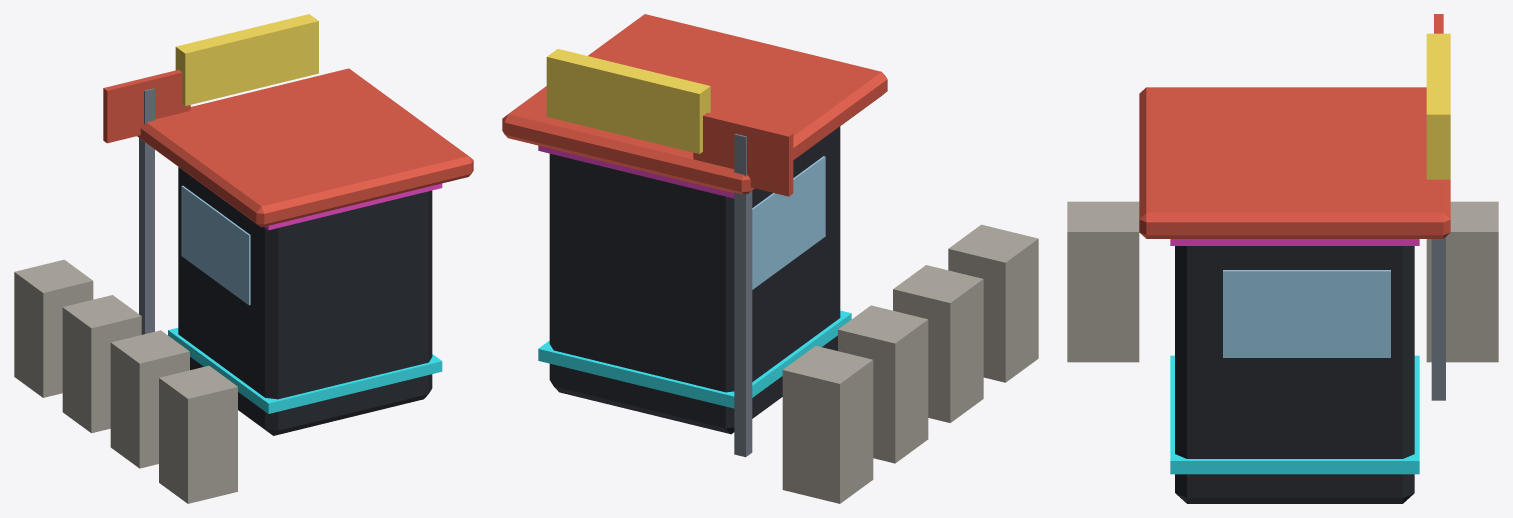
Rendered from checkpoint_neon.glb.
3 renders of one model, left to right at view 1: azimuth 30°, elevation 25°; view 2: azimuth 150°, elevation 25°; view 3: azimuth 270°, elevation 25°, orthographic. The views are drawn at different scales.
Parts seen in each view (by area): view 1: checkpoint_neon; view 2: checkpoint_neon; view 3: checkpoint_neon.
Boxes of the visible parts, <box> form: checkpoint_neon: <box>14,14,473,503</box>; checkpoint_neon: <box>502,14,1038,503</box>; checkpoint_neon: <box>1067,14,1498,503</box>.
Size of the model in its own units: 1.9 by 1.77 by 1.8.
Materials: 1 (1 with a texture image).
